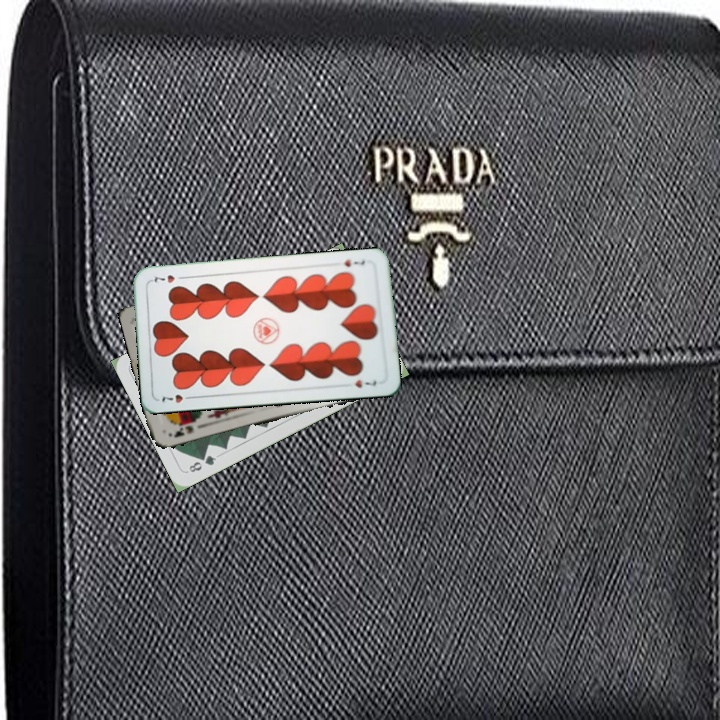G8: (185, 451, 219, 475)
H7: (156, 390, 196, 406), (340, 256, 367, 269)
SK: (170, 421, 196, 440)
